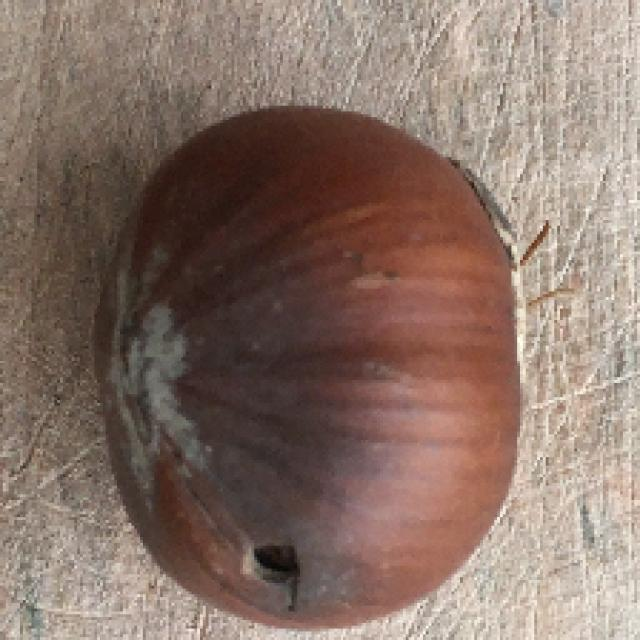damagedHazelnut: (84, 99, 528, 636)
